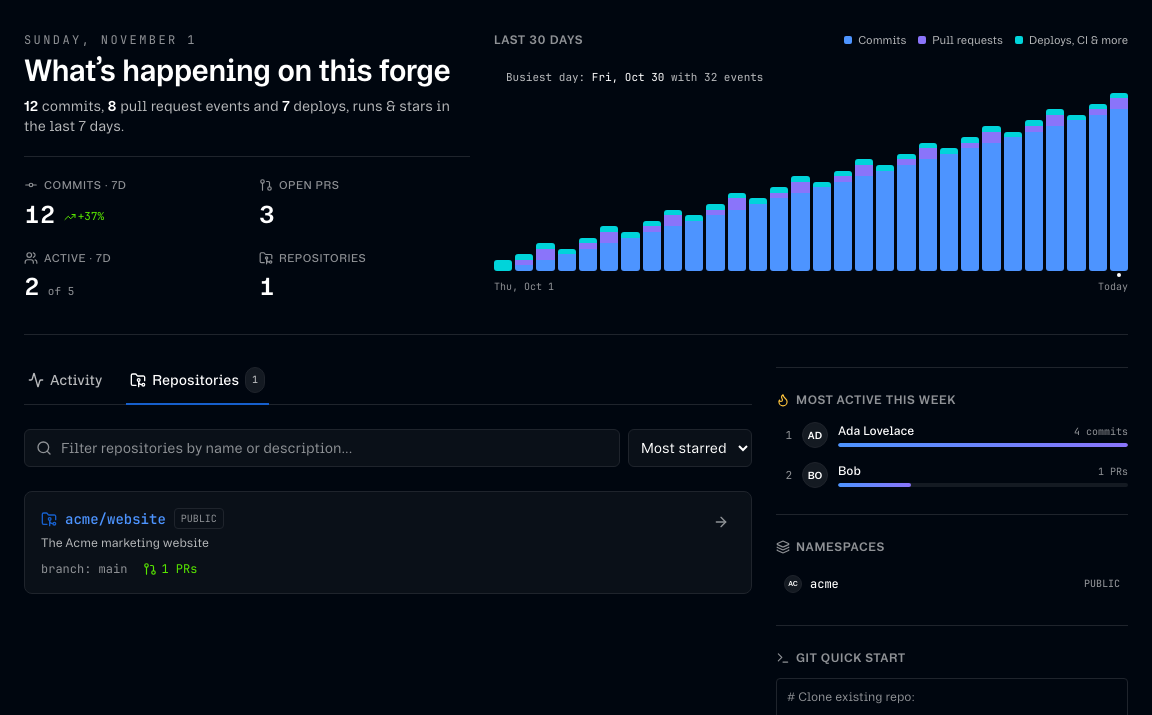
it: Dashboard › lands guests on the repository list, with activity one tab away
Expected: the link "acme/website" is shown, [65,508,166,528]
Expected: the element with test id "activity-pulse" shows "What’s happening on this forge", [24,53,450,87]
Click the tab "Activity": (65, 386) [24,370,106,402]
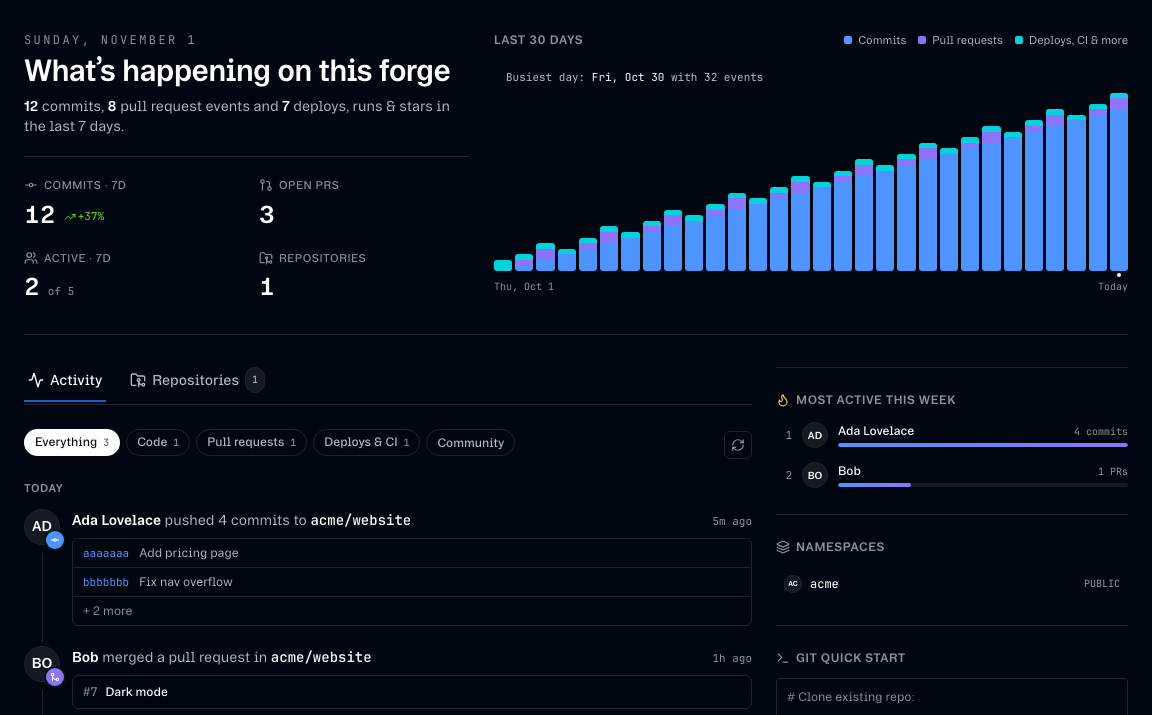
Now the text "Add pricing page" is shown, box [139,545,239,561]
